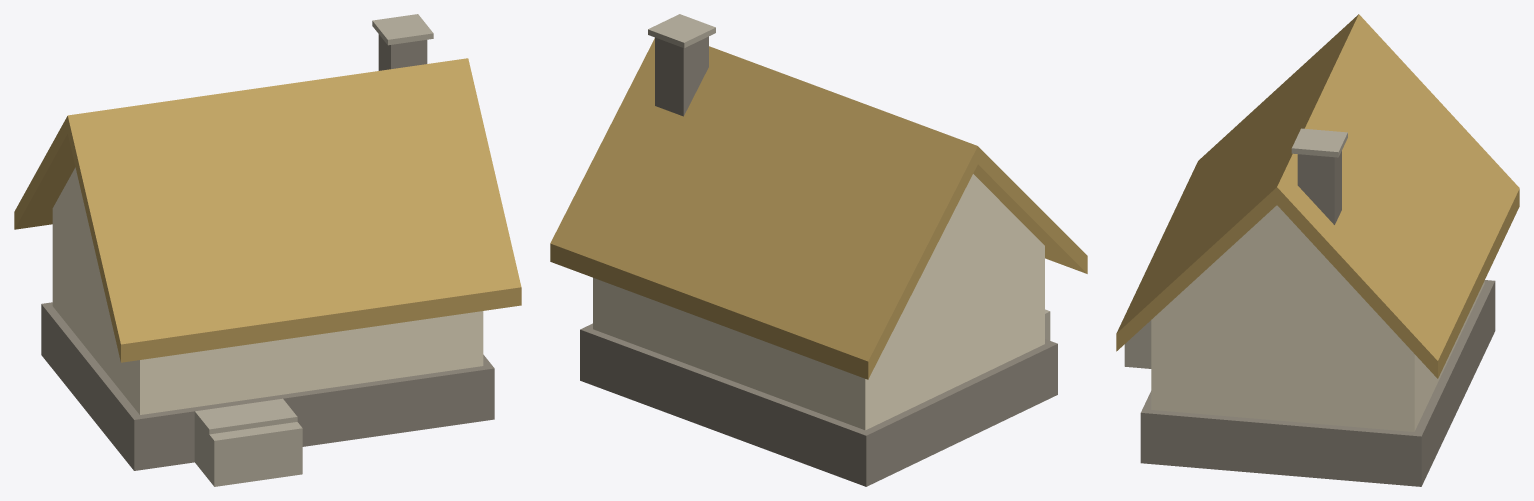
Rendered from SM_FishersCove_House2.fbx.
3 renders of one model, left to right at view 1: azimuth 30°, elevation 25°; view 2: azimuth 150°, elevation 25°; view 3: azimuth 270°, elevation 25°, orthographic.
Visible parts, largest first — view 1: SM_FishersCove_House2; view 2: SM_FishersCove_House2; view 3: SM_FishersCove_House2.
Part boxes in pixels (x1,y1,x2,y2): SM_FishersCove_House2: (14, 14, 521, 486); SM_FishersCove_House2: (550, 14, 1087, 486); SM_FishersCove_House2: (1116, 14, 1519, 486).
Size of the model in its own units: 9.53 by 7.16 by 8.12.
